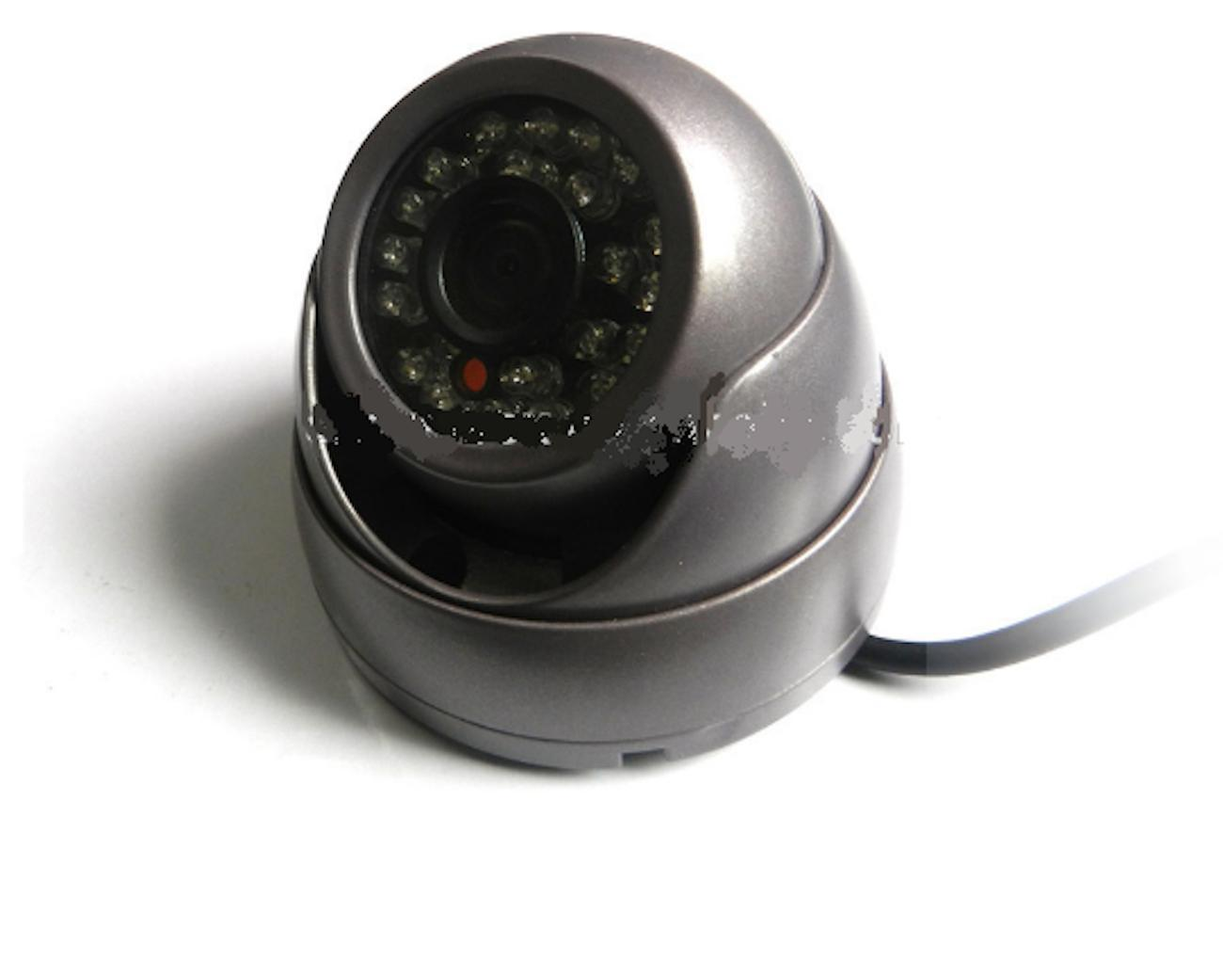CCTV: (293, 33, 902, 769)
